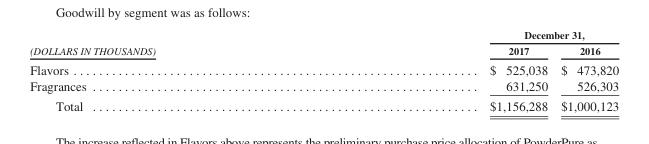table: (29, 28, 618, 113)
table column: (29, 28, 322, 113), (322, 28, 553, 113), (553, 28, 618, 113)
table column header: (29, 28, 618, 59)
table row: (29, 59, 618, 77), (29, 77, 618, 95), (29, 95, 618, 113), (29, 42, 618, 59), (29, 28, 618, 42)
table spanning cell: (29, 28, 322, 59), (322, 28, 618, 42)
